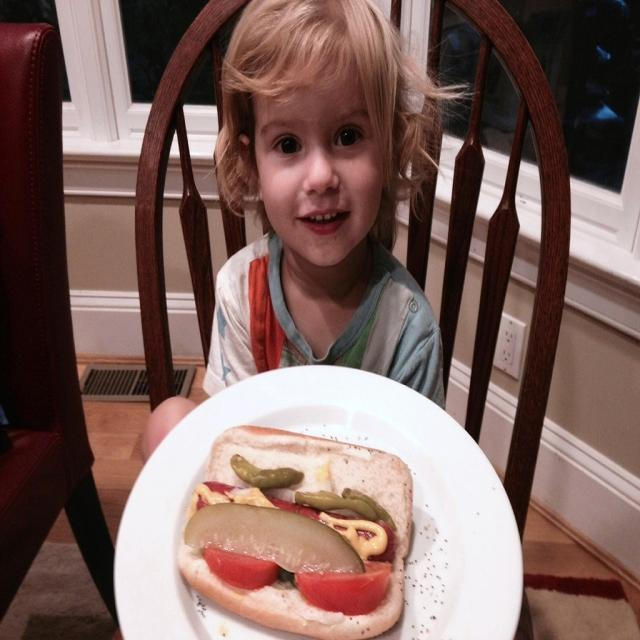Hot dog: (172, 426, 418, 632)
